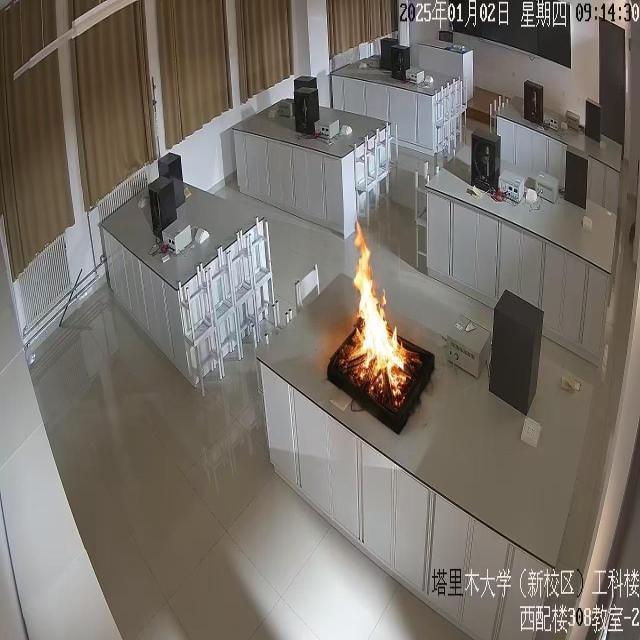smoke: (346, 218, 409, 395)
